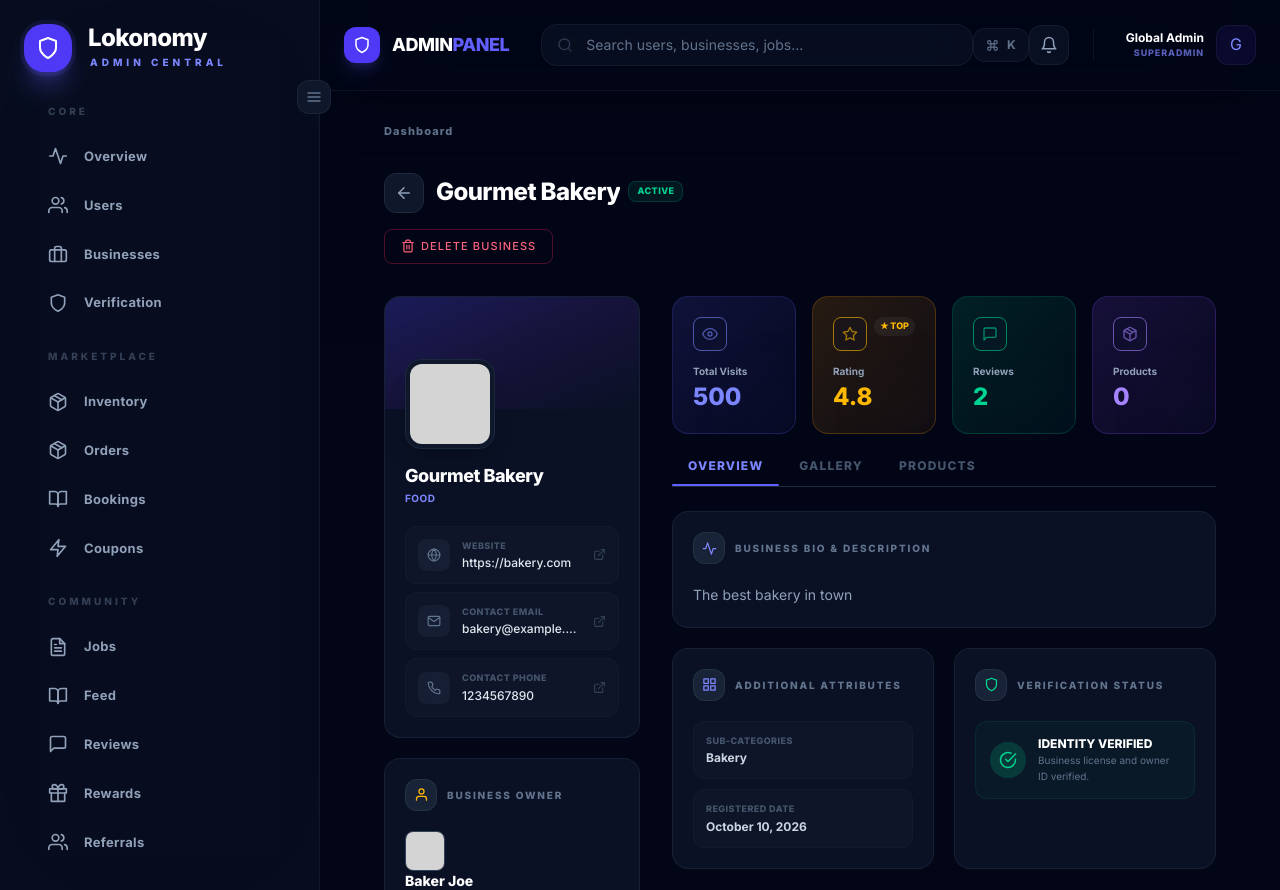
Scenario: AdminBusinessDetails Page › renders empty gallery and products state
The image size is (1280, 890).
Expected: the heading "Gourmet Bakery" next to "active" is shown, [436,177,620,206]
Click the button "gallery": (831, 472) [783,458,879,486]
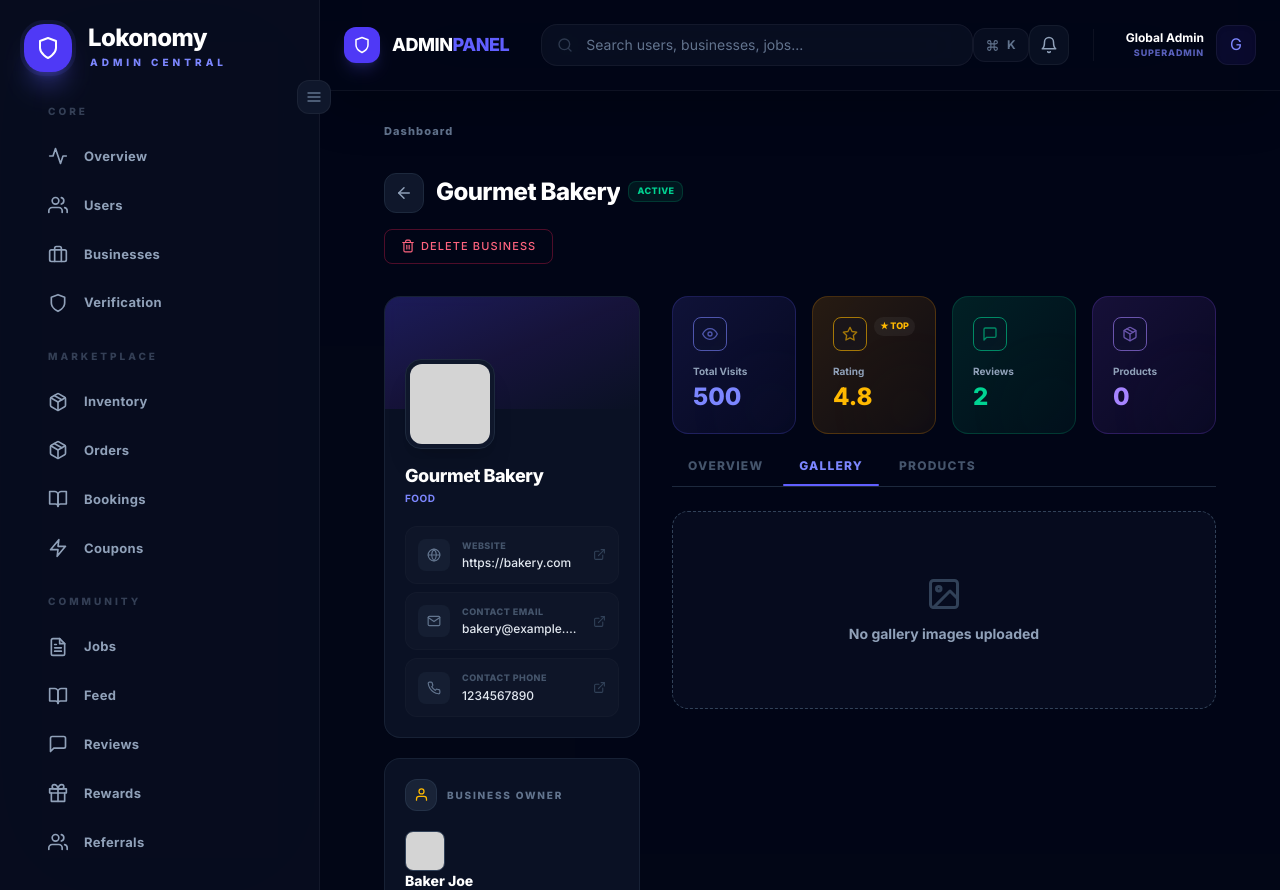
Expected: the text "No gallery images uploaded" is shown, [849,624,1039,644]
Click the button "products": (937, 472) [883,458,992,486]
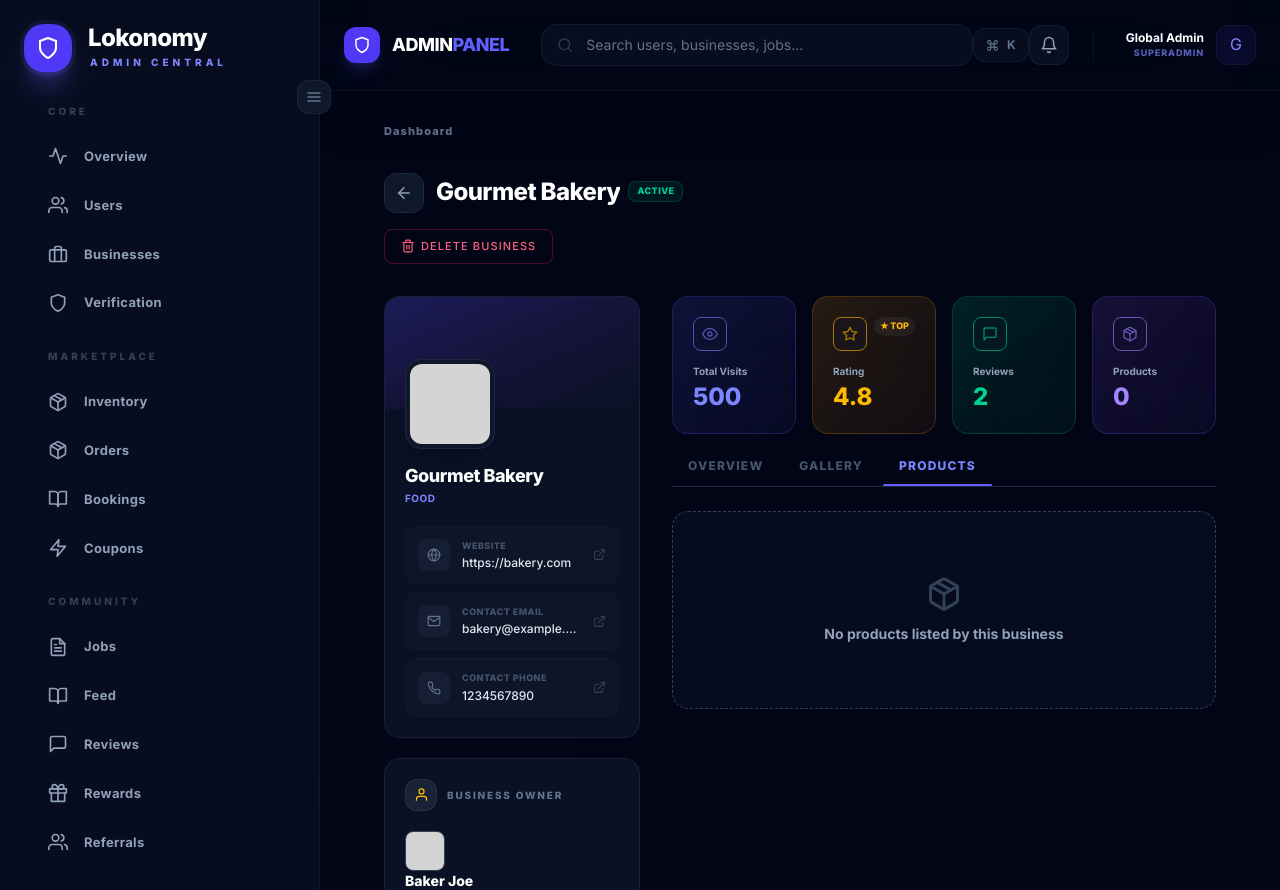
Expected: the text "No products listed by this business" is shown, [824,624,1064,644]
